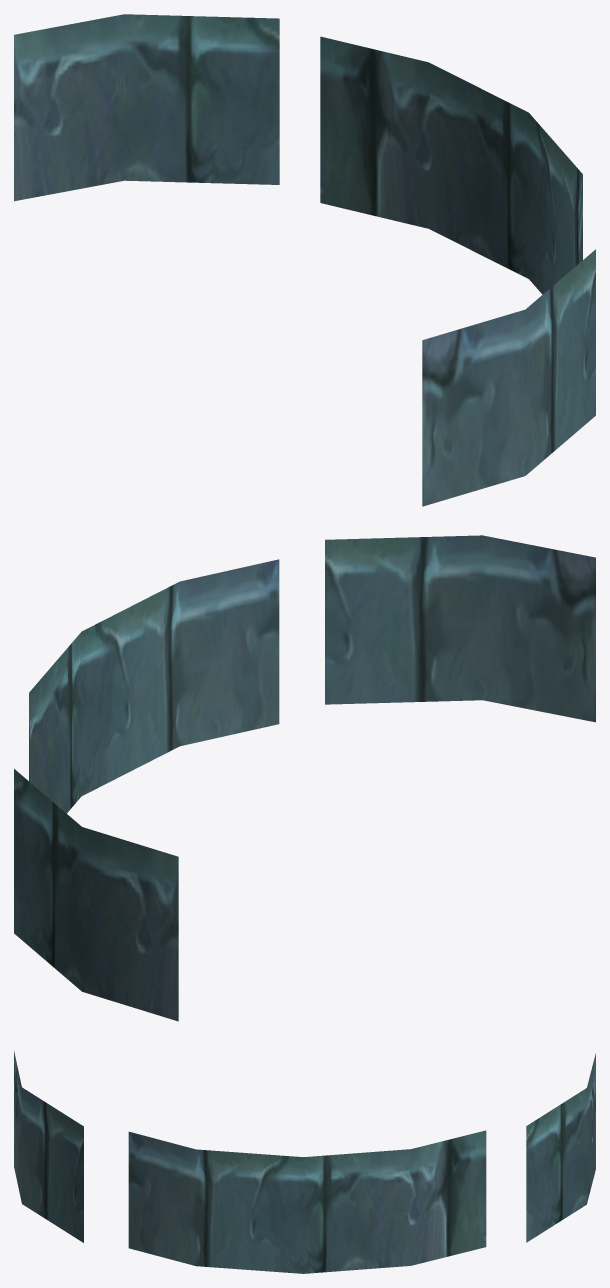
File: wdsy_waterfall.FBX
The picture shows the model from 3 angles, top to bottom: view 1: azimuth 30°, elevation 25°; view 2: azimuth 150°, elevation 25°; view 3: azimuth 270°, elevation 25°; orthographic projection. The views are drawn at different scales.
Visible parts, largest first — view 1: wdsy_waterfall; view 2: wdsy_waterfall; view 3: wdsy_waterfall.
Boxes of the visible parts, <box> form: wdsy_waterfall: <box>14,14,595,506</box>; wdsy_waterfall: <box>14,535,595,1021</box>; wdsy_waterfall: <box>14,1051,595,1273</box>.
Bounding box in the file's own units: 682 × 347 × 1567.
